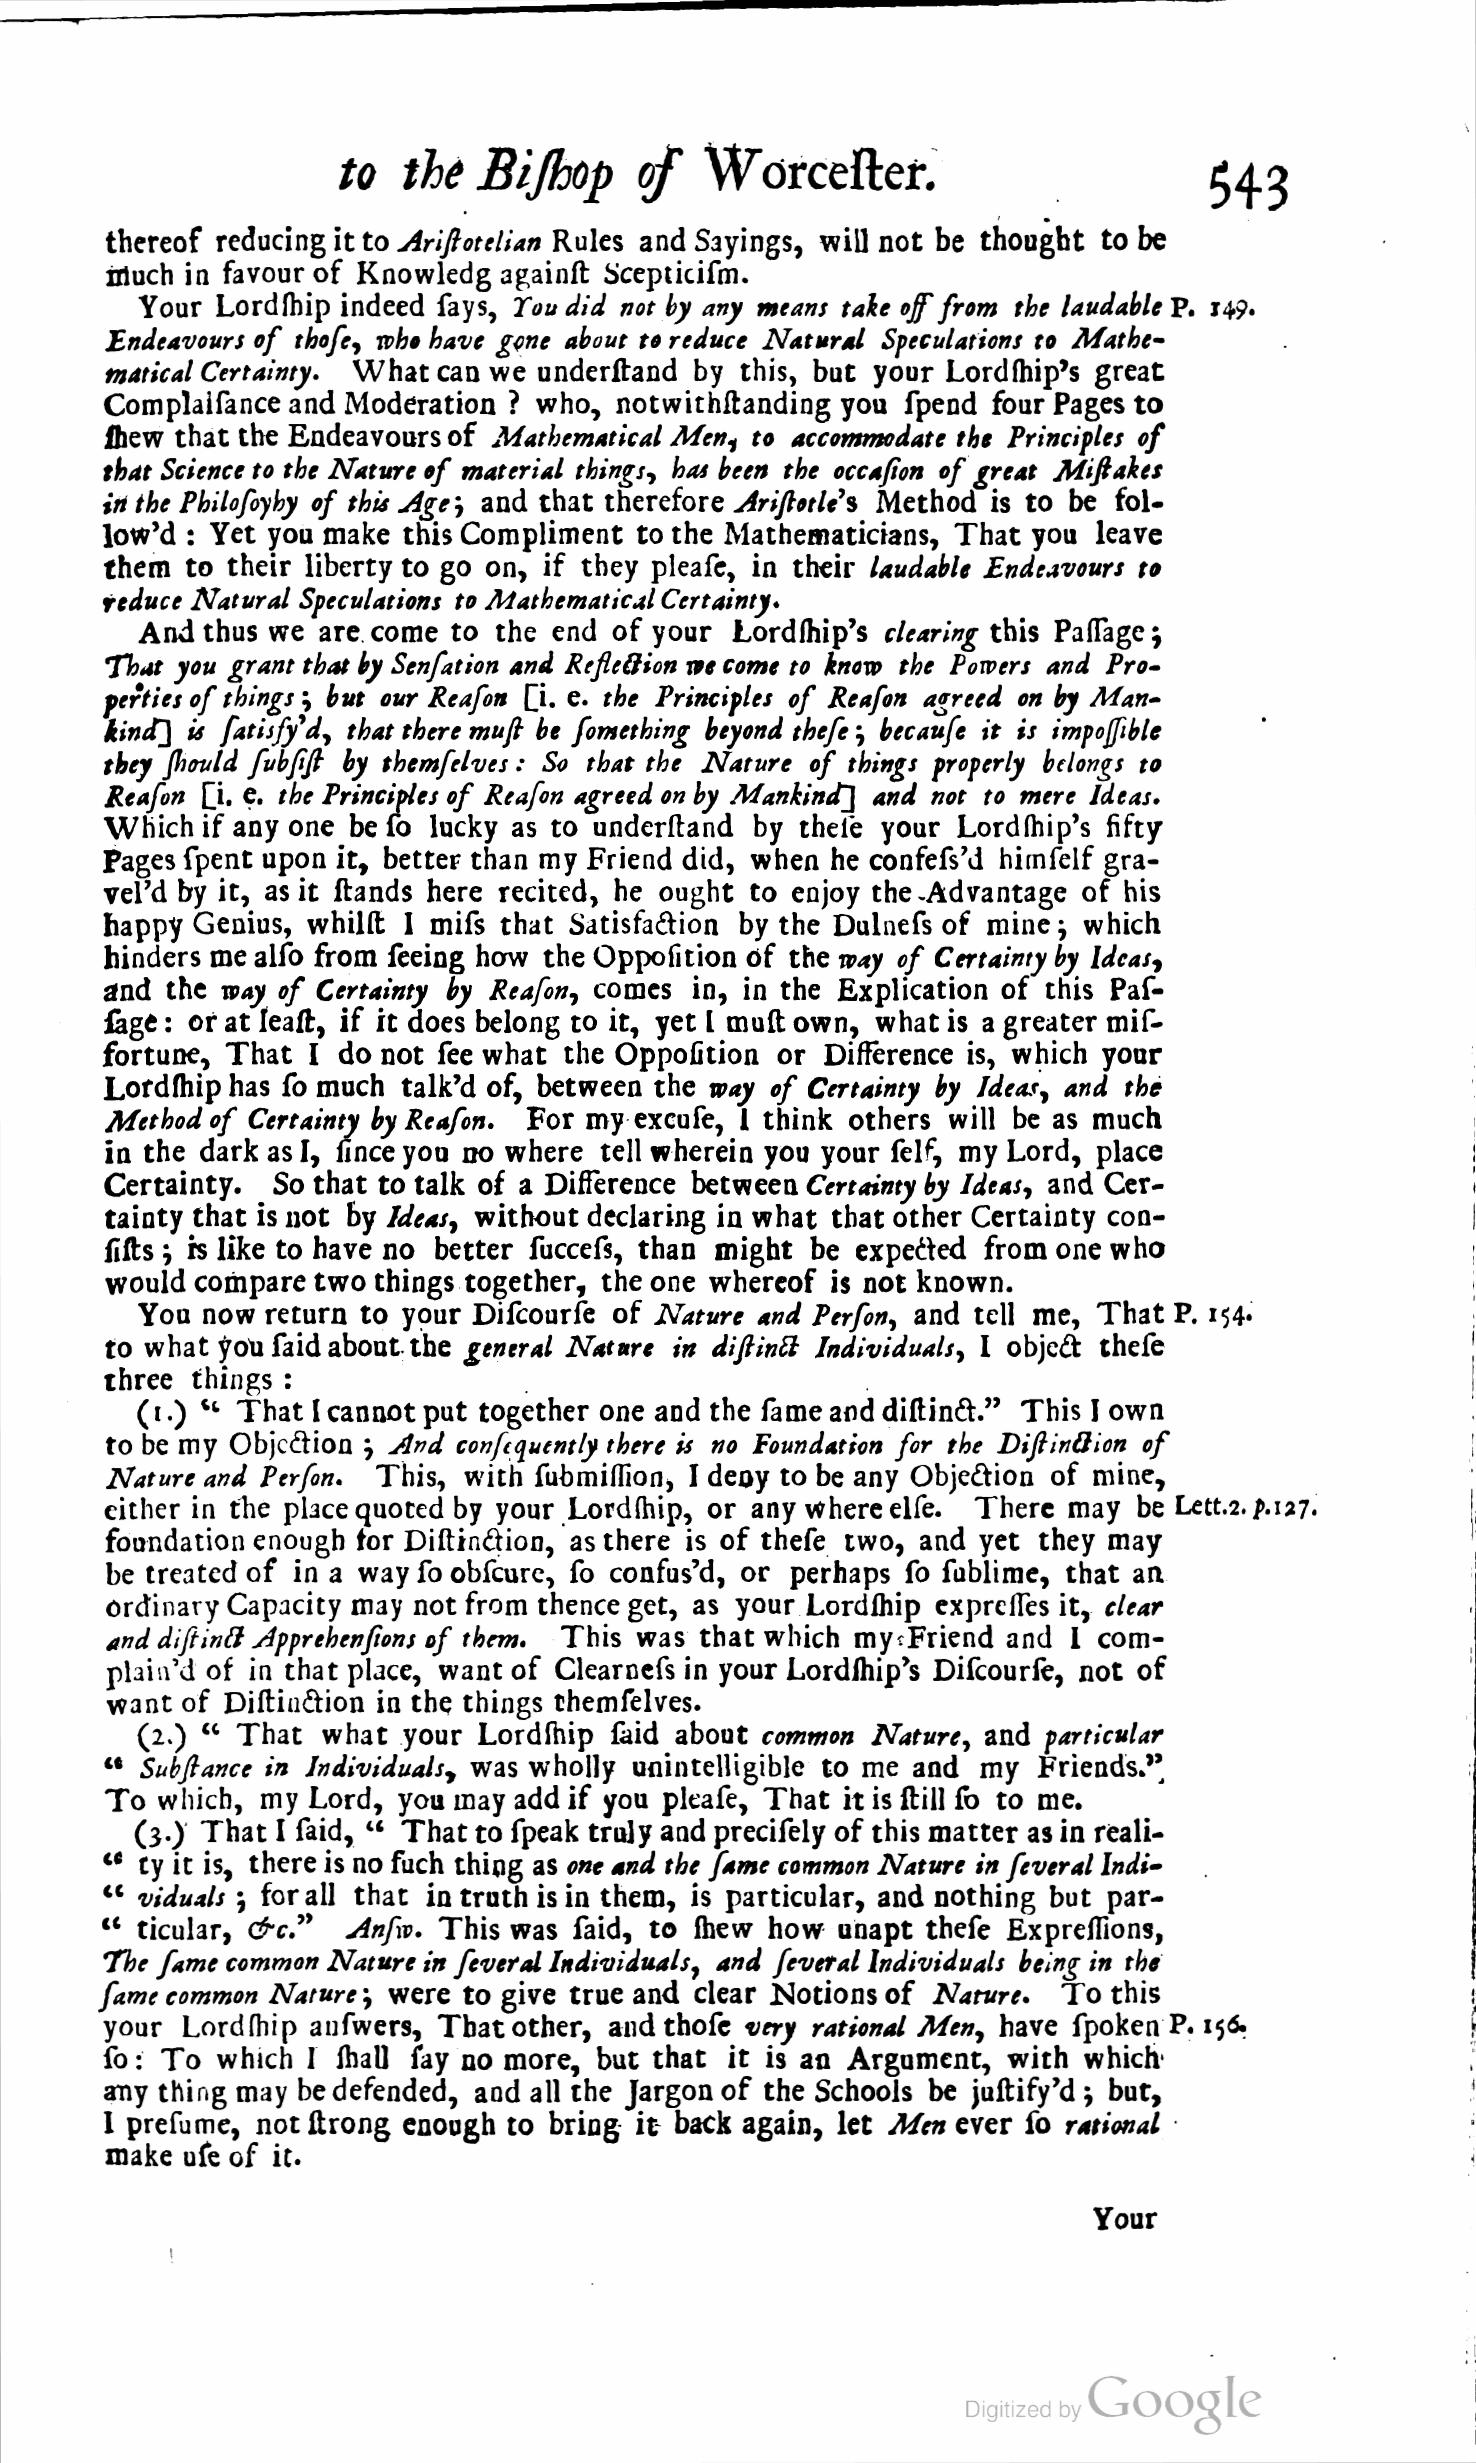bottom_p: (105, 223, 1170, 288)
catchword: (1089, 2196, 1160, 2233)
full_p: (100, 615, 1167, 1295), (100, 1820, 1165, 2173), (100, 290, 1167, 617), (102, 1397, 1167, 1715), (105, 1720, 1167, 1818), (102, 1300, 1170, 1395)
header: (330, 137, 937, 200)
page_num: (1200, 153, 1297, 216)
print_marg: (1170, 1488, 1320, 1525), (1170, 292, 1260, 325), (1170, 2008, 1249, 2043), (1176, 1300, 1253, 1330)
